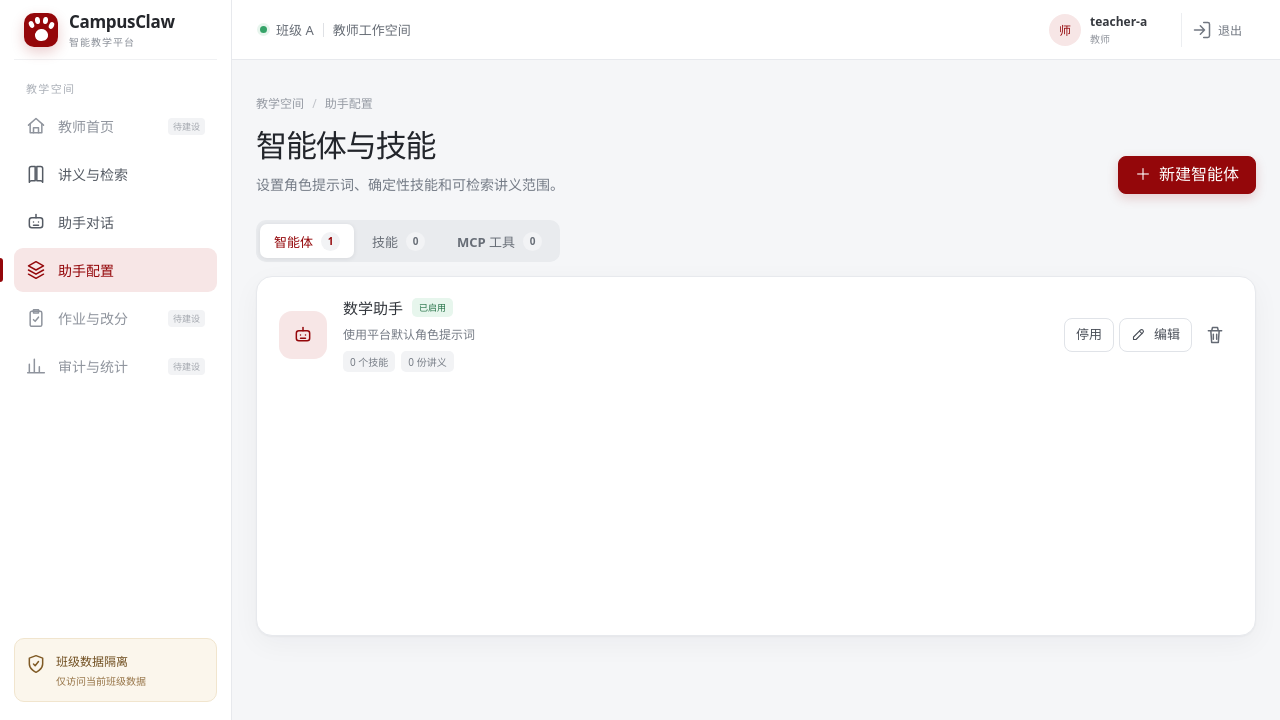
Test case: AgentConfigView › restores the assistant state when a quick toggle fails
Click the button "停用": (1089,335) [1064, 318, 1114, 352]
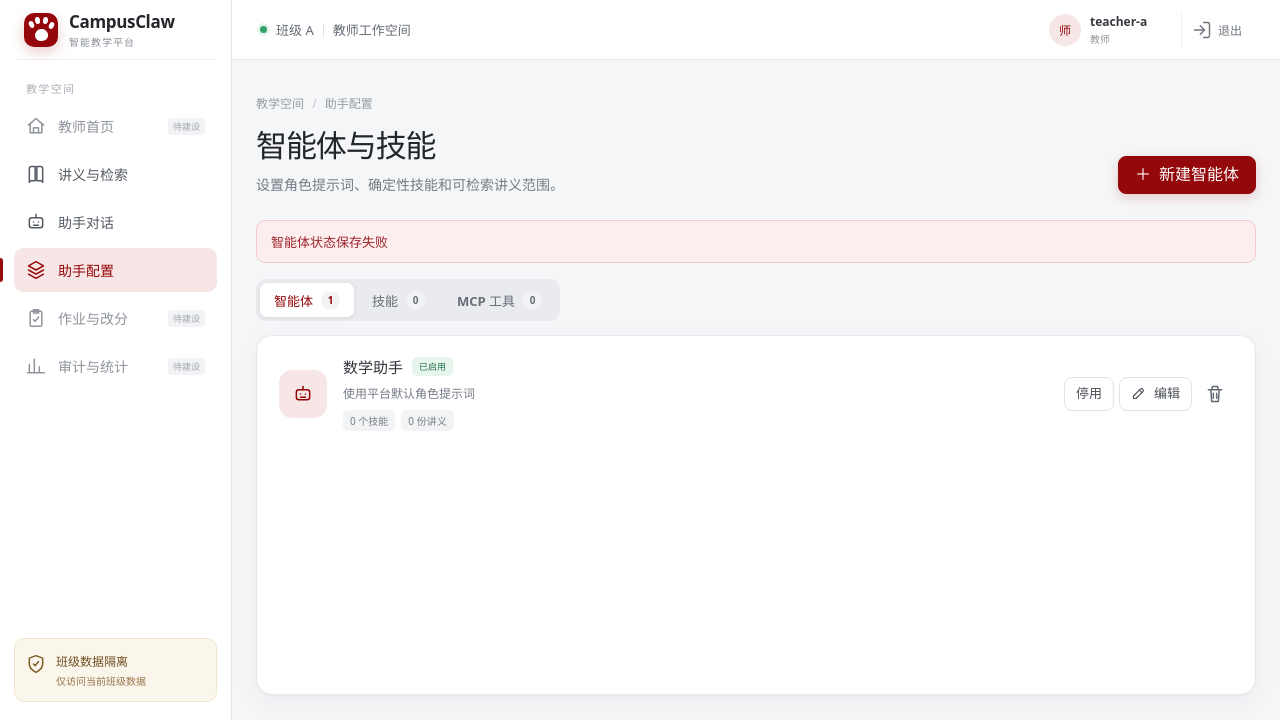
Expected: the text "已启用" is shown, [412, 357, 453, 376]
Now the text "智能体状态保存失败" is shown, box [256, 220, 1256, 263]
